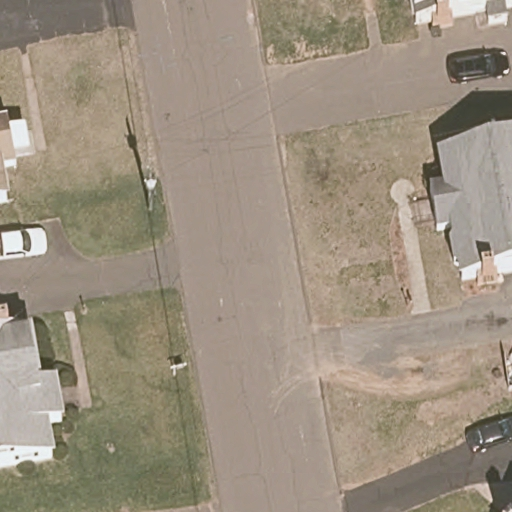DT: (142, 170, 158, 214)
